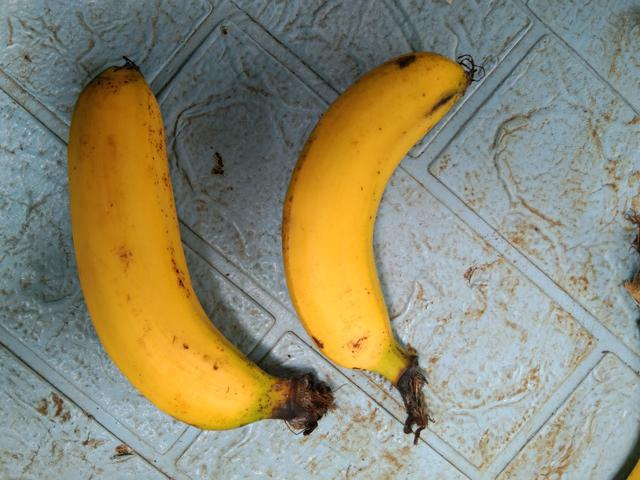freshripe: (35, 192, 397, 469), (231, 4, 470, 320)
